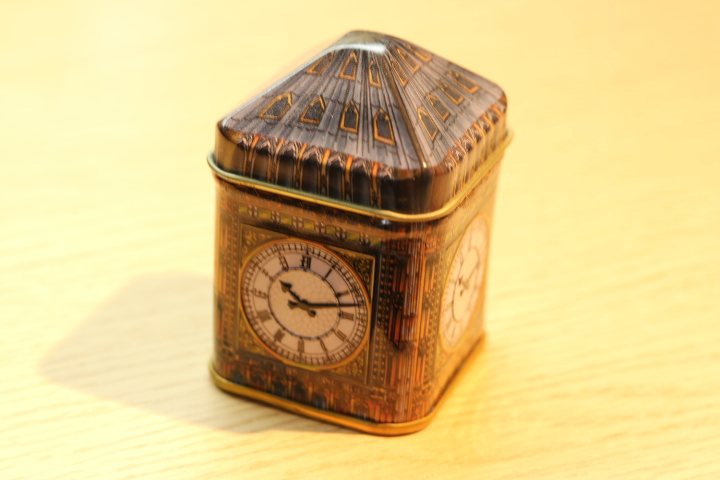Big Ben: (180, 22, 534, 448)
